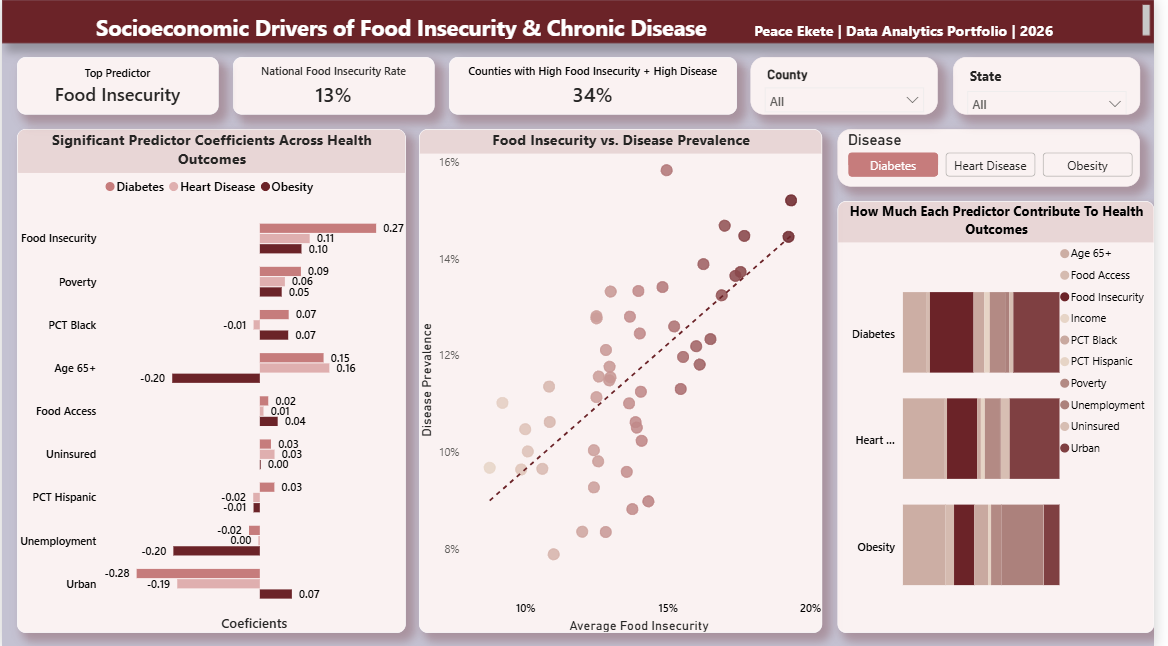

The dashboard page shown, as its layout file describes it:
{"tool":"powerbi","page":{"name":"Page 3_statistical_predictors","canvas":[1280,720],"ordinal":2},"visuals":[{"type":"advancedSlicerVisual","fields":{"Values":["Slicer_Table.Outcome_Name"]},"box":[896,80,368,80],"z":0},{"type":"textbox","box":[656,624,608,80],"z":1000},{"type":"tableEx","title":"Regression Summary → Food Access Effect on Health Outcomes","fields":{"Values":["Model_Summary.Model","Model_Summary.R_Squared","Model_Summary.Beta","Model_Summary.P_Value"]},"box":[16,576,624,128],"z":2000},{"type":"clusteredBarChart","title":"Regression Coefficients Across Health Outcome Models","fields":{"Category":["Regression Results (2).Variable"],"Series":["Regression Results (2).Model_Clean"],"Y":["Regression Results (2).Beta_Value"]},"box":[16,176,624,384],"z":3000},{"type":"textbox","box":[0,0,1280,64],"z":4000},{"type":"cardVisual","fields":{"Data":["Regression Results (2).R²"]},"box":[224,80,192,80],"z":5000},{"type":"cardVisual","fields":{"Data":["Regression Results (2).Adjusted_R_Squared"]},"box":[432,80,208,80],"z":6000},{"type":"cardVisual","fields":{"Data":["Regression Results (2).Strongest_Predictor"]},"box":[16,80,192,80],"z":7000},{"type":"cardVisual","fields":{"Data":["Regression Results (2).Significant_Variables_Count"]},"box":[656,80,224,80],"z":8000},{"type":"hundredPercentStackedBarChart","title":"How Much Does Each Predictor Contribute to Explaining Disease?","fields":{"Y":["master_county_final.Beta_Share"],"Category":["Regression Results (2).Model_Clean"],"Series":["Regression Results (2).Variable"]},"box":[656,384,608,224],"z":9000},{"type":"clusteredBarChart","title":"Model Fit Comparison for Disease Prediction (R² and Adjusted R²)","fields":{"Category":["Model Fit.Model"],"Y":["Avg(Model Fit.Value)"],"Series":["Model Fit.Metric"]},"box":[656,176,608,192],"z":10000}]}

Visuals, with their boxes in screenshot pixels (x1, y1, x2, y2), scaled from the page's 1280x720 canvas onto the 1168x646 screenshot:
advancedSlicerVisual - Slicer_Table.Outcome_Name: [left=818, top=72, right=1153, bottom=144]
textbox: [left=599, top=560, right=1153, bottom=632]
"Regression Summary → Food Access Effect on Health Outcomes" tableEx: [left=15, top=517, right=584, bottom=632]
"Regression Coefficients Across Health Outcome Models" clusteredBarChart: [left=15, top=158, right=584, bottom=502]
textbox: [left=0, top=0, right=1167, bottom=57]
cardVisual - Regression Results (2).R²: [left=204, top=72, right=380, bottom=144]
cardVisual - Regression Results (2).Adjusted_R_Squared: [left=394, top=72, right=584, bottom=144]
cardVisual - Regression Results (2).Strongest_Predictor: [left=15, top=72, right=190, bottom=144]
cardVisual - Regression Results (2).Significant_Variables_Count: [left=599, top=72, right=803, bottom=144]
"How Much Does Each Predictor Contribute to Explaining Disease?" hundredPercentStackedBarChart: [left=599, top=345, right=1153, bottom=546]
"Model Fit Comparison for Disease Prediction (R² and Adjusted R²)" clusteredBarChart: [left=599, top=158, right=1153, bottom=330]
